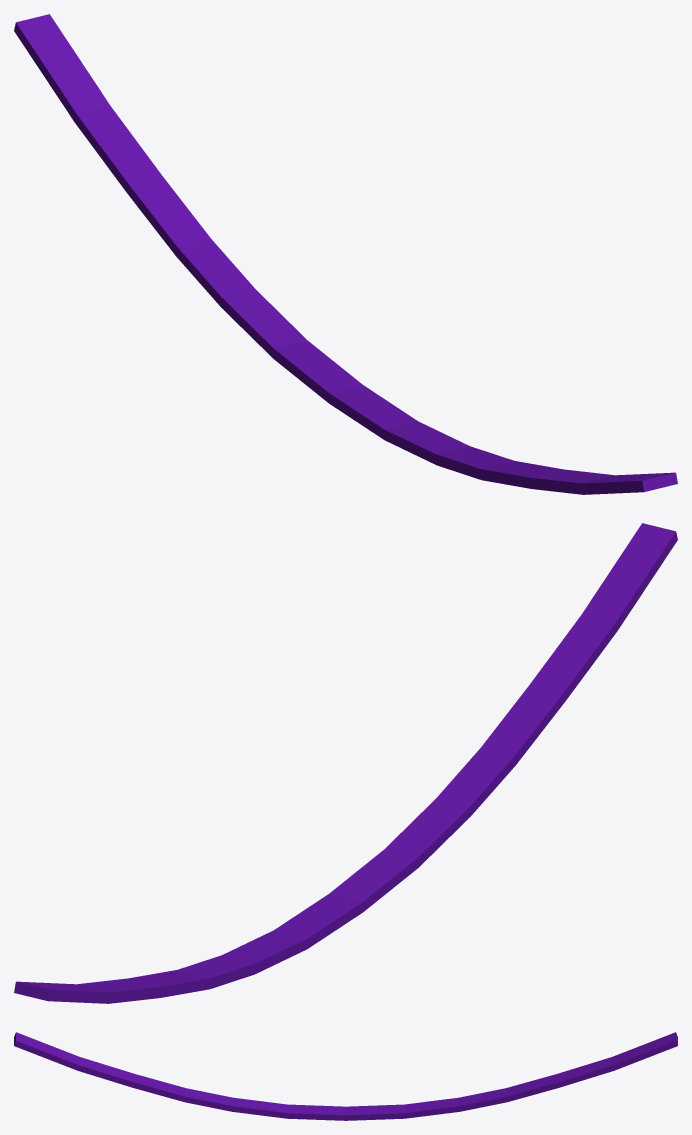
File: Tape_5.003_chunks.fbx
3 renders of one model, top to bottom at view 1: azimuth 30°, elevation 25°; view 2: azimuth 150°, elevation 25°; view 3: azimuth 270°, elevation 25°, orthographic. The views are drawn at different scales.
Visible parts, largest first — view 1: Tape_5.003_1, Tape_5.003_3, Tape_5.003_0; view 2: Tape_5.003_0, Tape_5.003_1, Tape_5.003_3; view 3: Tape_5.003_0, Tape_5.003_1, Tape_5.003_3, Tape_5.003_2.
Part boxes in pixels (bbox=[...]): Tape_5.003_1: bbox=[143, 212, 377, 412]; Tape_5.003_3: bbox=[14, 14, 190, 226]; Tape_5.003_0: bbox=[340, 399, 677, 494]; Tape_5.003_0: bbox=[358, 523, 677, 900]; Tape_5.003_1: bbox=[157, 880, 377, 994]; Tape_5.003_3: bbox=[14, 973, 195, 1003]; Tape_5.003_0: bbox=[14, 1032, 333, 1117]; Tape_5.003_1: bbox=[325, 1083, 546, 1120]; Tape_5.003_3: bbox=[522, 1032, 677, 1090]; Tape_5.003_2: bbox=[275, 1111, 329, 1119].
Size of the model in its own units: 24.08 by 103 by 776.
